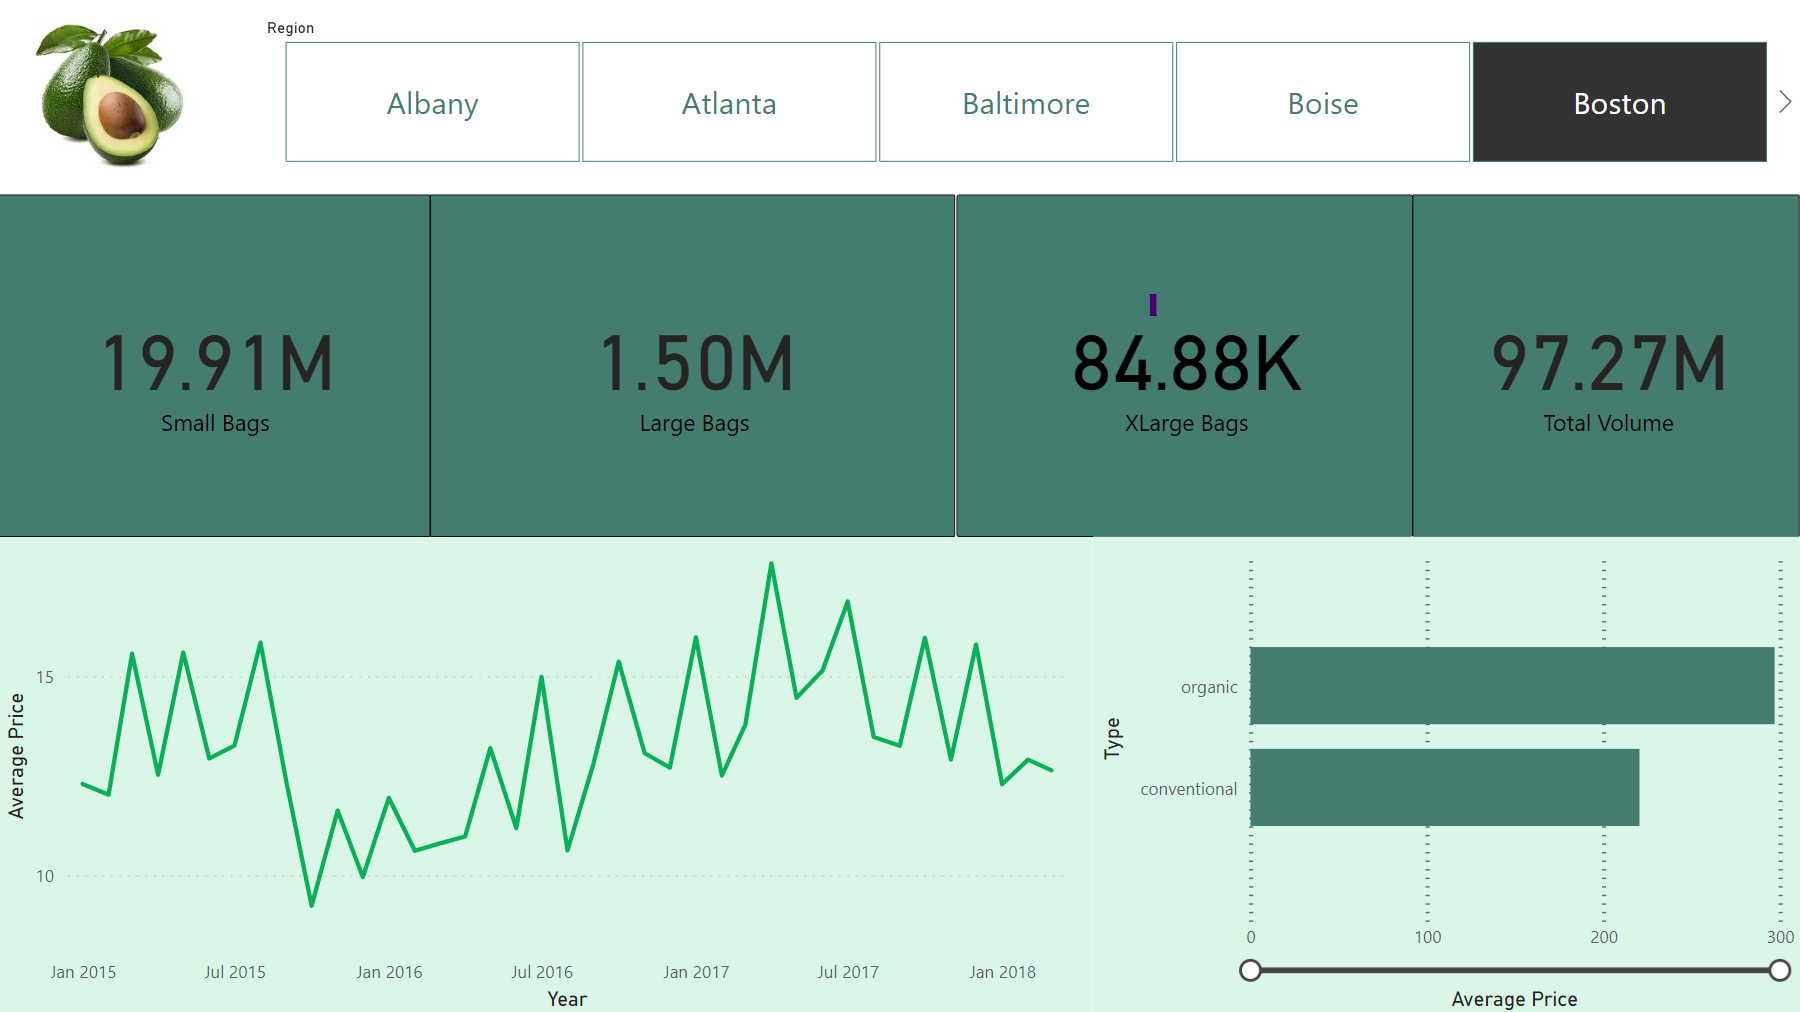

What the dashboard file says about the page in this screenshot:
{"tool":"powerbi","page":{"name":"Avocado_Sale_Overview","canvas":[1280,720],"ordinal":0},"visuals":[{"type":"slicer","fields":{"Values":["avocado.region"]},"box":[192,16,1088,112],"z":0},{"type":"lineChart","fields":{"Y":["Sum(avocado.AveragePrice)"],"Category":["avocado.Date.Variation.Date Hierarchy.Year","avocado.Date.Variation.Date Hierarchy.Quarter","avocado.Date.Variation.Date Hierarchy.Month","avocado.Date.Variation.Date Hierarchy.Day"]},"box":[16,384,768,336],"z":1000},{"type":"card","fields":{"Values":["Sum(avocado.Small Bags)"]},"box":[16,144,304,240],"z":2000},{"type":"card","fields":{"Values":["Sum(avocado.Large Bags)"]},"box":[320,144,368,240],"z":3000},{"type":"card","fields":{"Values":["Sum(avocado.XLarge Bags)"]},"box":[688,144,320,240],"z":4000},{"type":"card","fields":{"Values":["Sum(avocado.Total Volume)"]},"box":[1008,144,272,240],"z":5000},{"type":"image","box":[0,0,192,144],"z":6000},{"type":"clusteredBarChart","fields":{"Category":["avocado.type"],"Y":["Sum(avocado.AveragePrice)"]},"box":[784,384,496,336],"z":7000}]}

Visuals, with their boxes in screenshot pixels (x1, y1, x2, y2), scaled from the page's 1280x720 canvas onto the 1800x1012 screenshot:
slicer - avocado.region: [270,22,1799,180]
lineChart - Sum(avocado.AveragePrice) x avocado.Date.Variation.Date Hierarchy.Year: [22,540,1102,1011]
card - Sum(avocado.Small Bags): [22,202,450,540]
card - Sum(avocado.Large Bags): [450,202,968,540]
card - Sum(avocado.XLarge Bags): [968,202,1418,540]
card - Sum(avocado.Total Volume): [1418,202,1799,540]
image: [0,0,270,202]
clusteredBarChart - avocado.type x Sum(avocado.AveragePrice): [1102,540,1799,1011]
